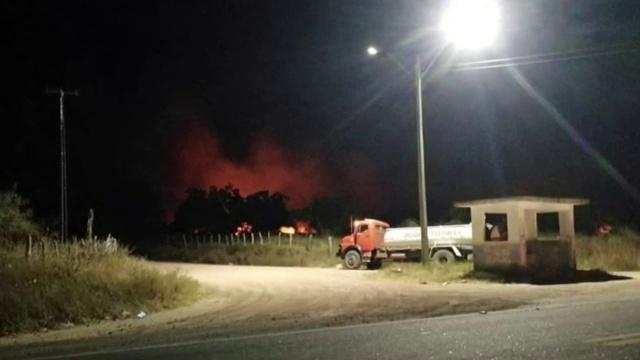smoke: (249, 147, 310, 185), (174, 145, 213, 180)
